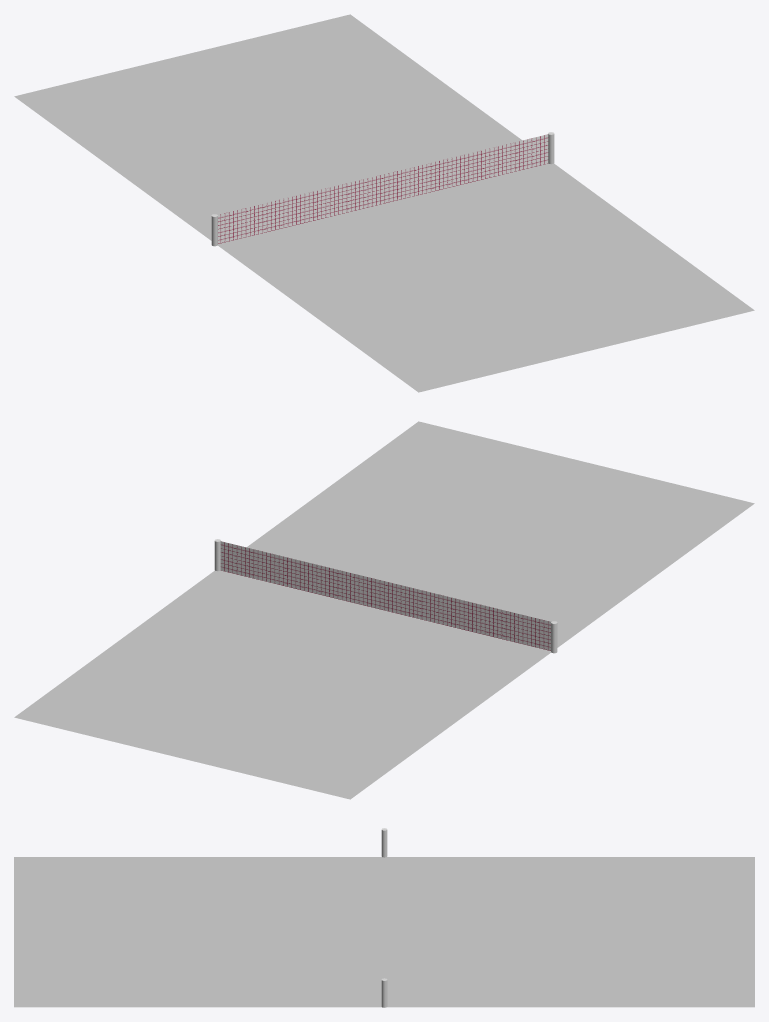
Rendered from court.fbx.
3 renders of one model, top to bottom at view 1: azimuth 30°, elevation 25°; view 2: azimuth 150°, elevation 25°; view 3: azimuth 270°, elevation 25°, orthographic. The views are drawn at different scales.
Parts seen in each view (by area): view 1: Plane001, Plane002; view 2: Plane001, Plane002; view 3: Plane001.
Boxes of the visible parts, box(x1,y1,x2,y2) form: Plane001: box(14, 14, 754, 392); Plane002: box(218, 134, 548, 243); Plane001: box(14, 421, 754, 799); Plane002: box(220, 541, 550, 650); Plane001: box(14, 857, 754, 1007).
Bounding box in the file's own units: 1220 × 100 × 2500.
